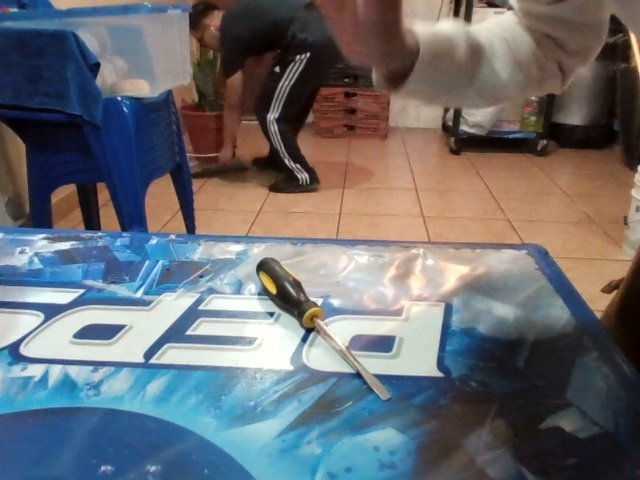destornillador: (254, 257, 392, 402)
